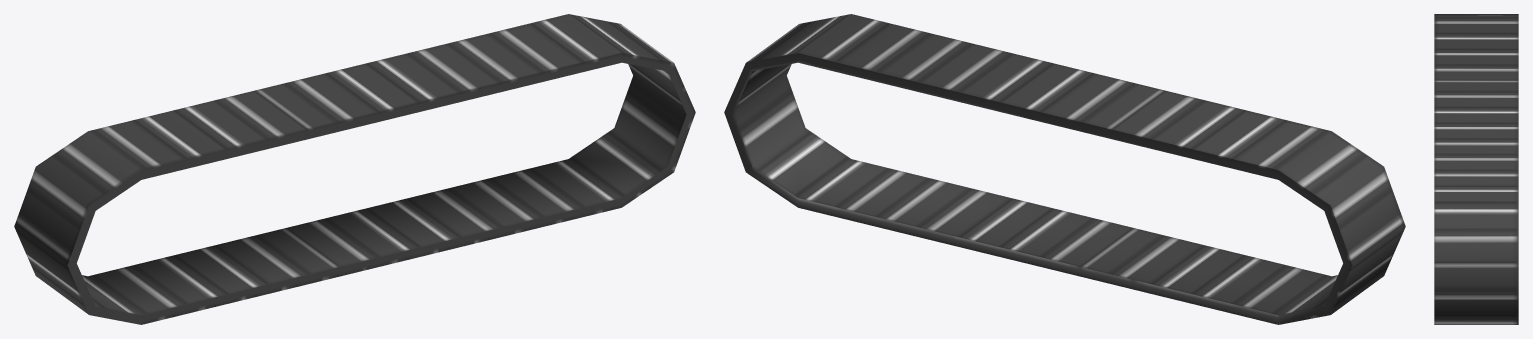
The model's file is robottrack.obj.
3 views of the same model, side by side, from view 1: azimuth 30°, elevation 25°; view 2: azimuth 150°, elevation 25°; view 3: azimuth 270°, elevation 25° (orthographic). The views are drawn at different scales.
Parts seen in each view (by area): view 1: cylinder5; view 2: cylinder5; view 3: cylinder5.
Boxes of the visible parts, bbox=[...] form: cylinder5: bbox=[14, 14, 695, 324]; cylinder5: bbox=[724, 14, 1405, 324]; cylinder5: bbox=[1434, 14, 1518, 324].
Bounding box in the file's own units: 1.7 × 0.4 × 0.25.
1 material, 1 textured.
